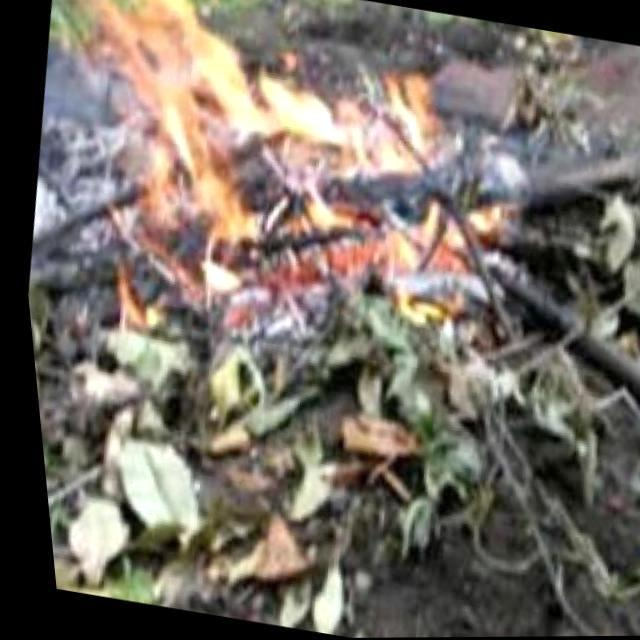fire: (52, 0, 540, 326)
